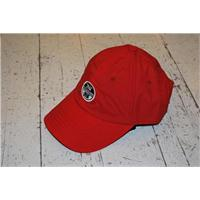hat: (44, 44, 174, 152)
